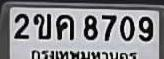0: (119, 15, 134, 40)
2: (13, 13, 28, 38)
7: (101, 14, 116, 40)
8: (83, 14, 97, 39)
9: (138, 15, 152, 41)
A02: (33, 13, 50, 39)
A04: (55, 14, 73, 39)
BKK: (30, 47, 139, 59)
